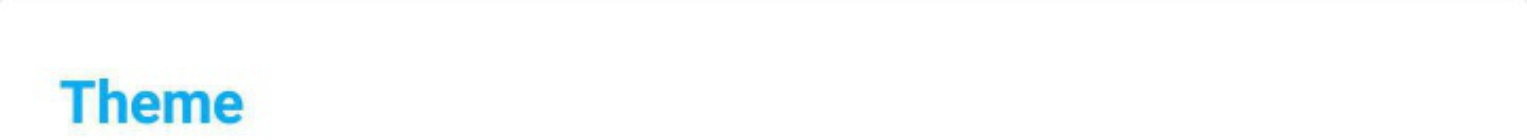TextView: (1, 1, 1526, 139)
